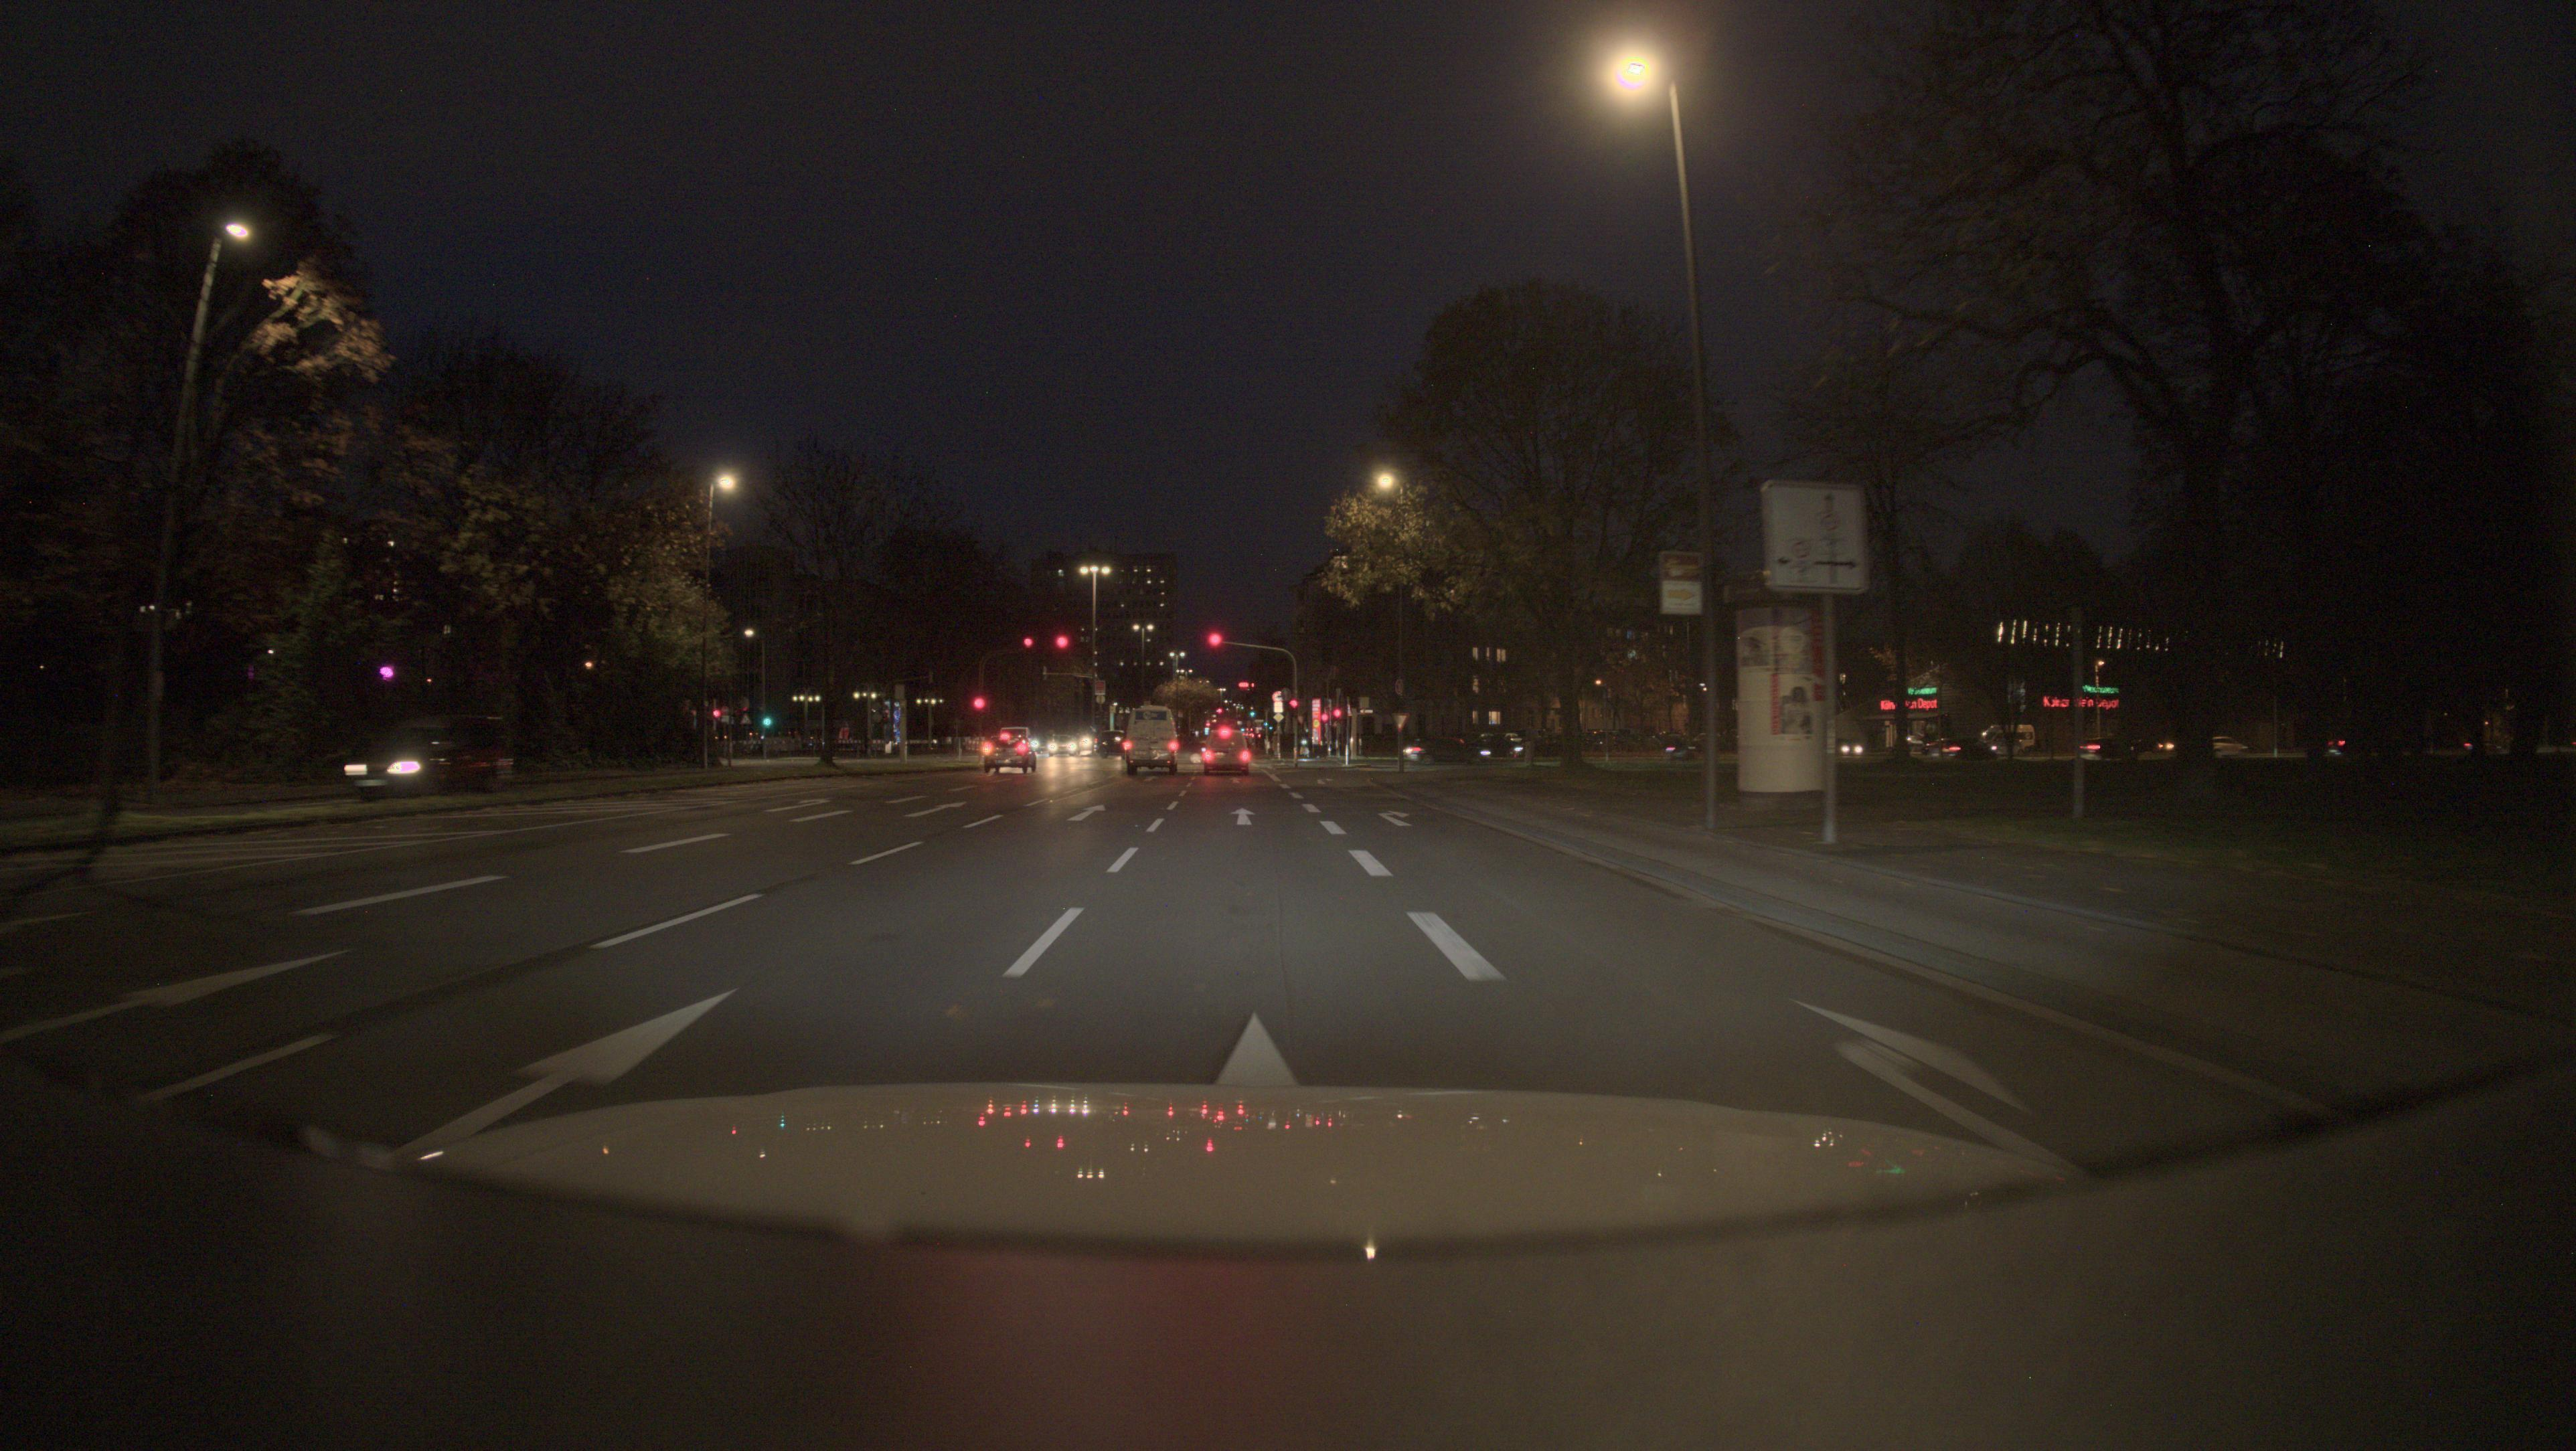red: (1210, 632, 1223, 656), (1023, 635, 1035, 653), (1058, 635, 1069, 653), (975, 697, 985, 711)
